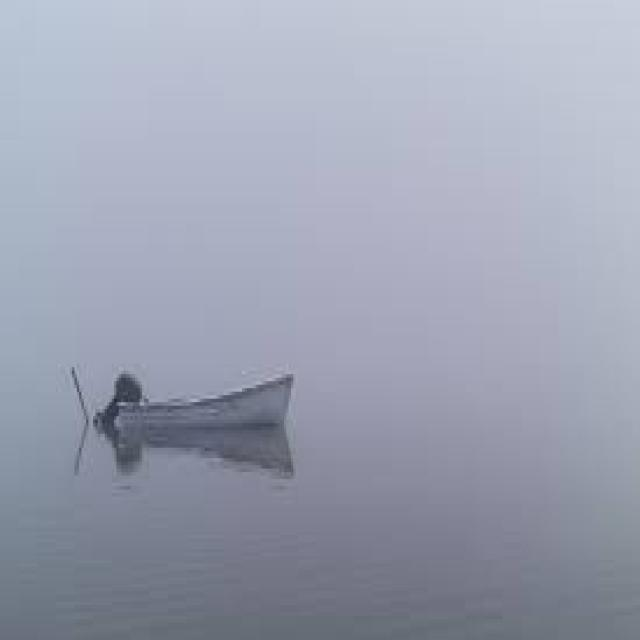fishing boat: (80, 355, 300, 440)
